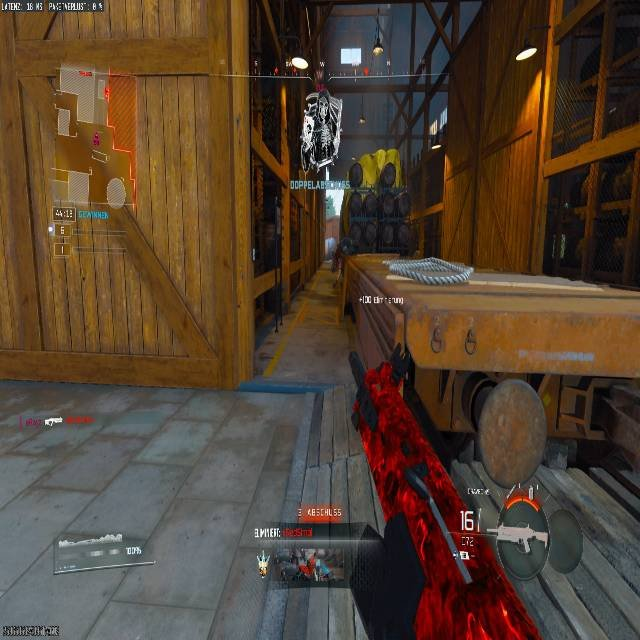player: (331, 248, 342, 273)
